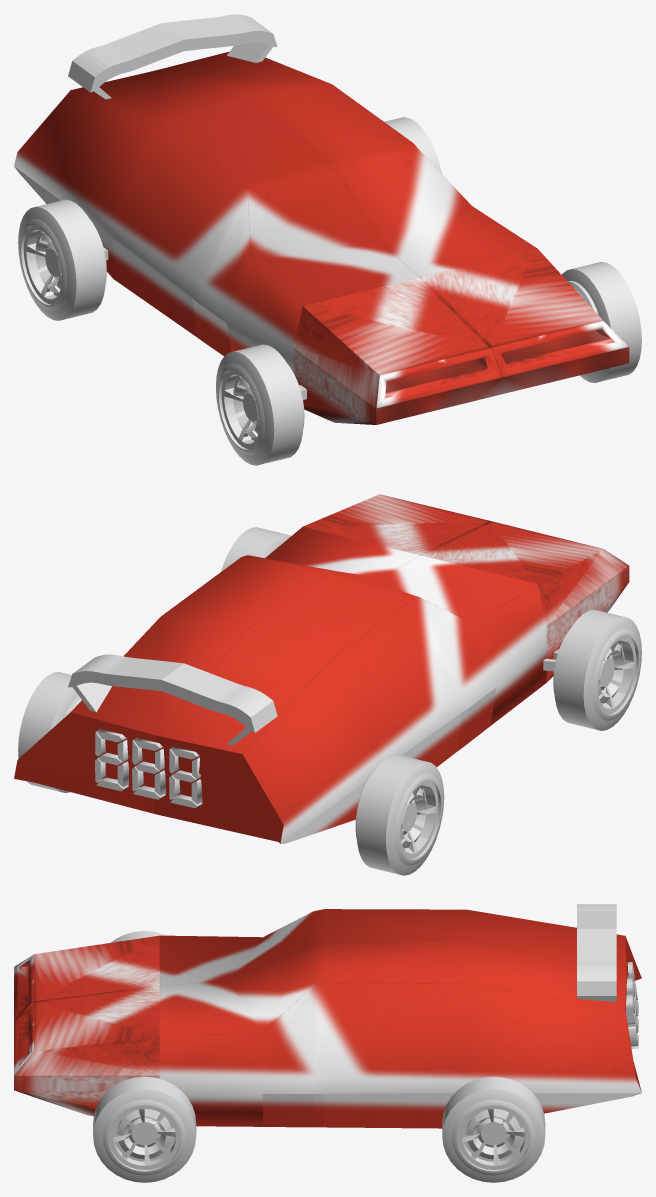
The model's file is car3.fbx.
3 renders of one model, top to bottom at view 1: azimuth 30°, elevation 25°; view 2: azimuth 150°, elevation 25°; view 3: azimuth 270°, elevation 25°, orthographic. The views are drawn at different scales.
Parts seen in each view (by area): view 1: Body, BackRightWheel, FrontRightWheel, Spoiler, FrontLeftWheel, BackLeftWheel; view 2: Body, FrontRightWheel, BackRightWheel, Spoiler, Text, BackLeftWheel, FrontLeftWheel; view 3: Body, FrontLeftWheel, BackLeftWheel, Spoiler, Text.
Part boxes in pixels (x1=…): Body: x1=14, y1=51, x2=629, y2=424; BackRightWheel: x1=18, y1=199, x2=106, y2=320; FrontRightWheel: x1=216, y1=344, x2=304, y2=465; Spoiler: x1=68, y1=14, x2=277, y2=99; FrontLeftWheel: x1=562, y1=262, x2=641, y2=382; BackLeftWheel: x1=384, y1=117, x2=441, y2=173; Body: x1=14, y1=494, x2=629, y2=843; FrontRightWheel: x1=553, y1=609, x2=641, y2=730; BackRightWheel: x1=355, y1=754, x2=444, y2=875; Spoiler: x1=68, y1=654, x2=277, y2=745; Text: x1=95, y1=729, x2=202, y2=808; BackLeftWheel: x1=18, y1=672, x2=81, y2=792; FrontLeftWheel: x1=221, y1=527, x2=290, y2=571; Body: x1=14, y1=909, x2=641, y2=1128; FrontLeftWheel: x1=93, y1=1076, x2=196, y2=1182; BackLeftWheel: x1=442, y1=1076, x2=545, y2=1182; Spoiler: x1=577, y1=904, x2=616, y2=1002; Text: x1=626, y1=962, x2=638, y2=1048.
Size of the model in its own units: 300 by 149 by 487.
2 materials, 1 textured.
